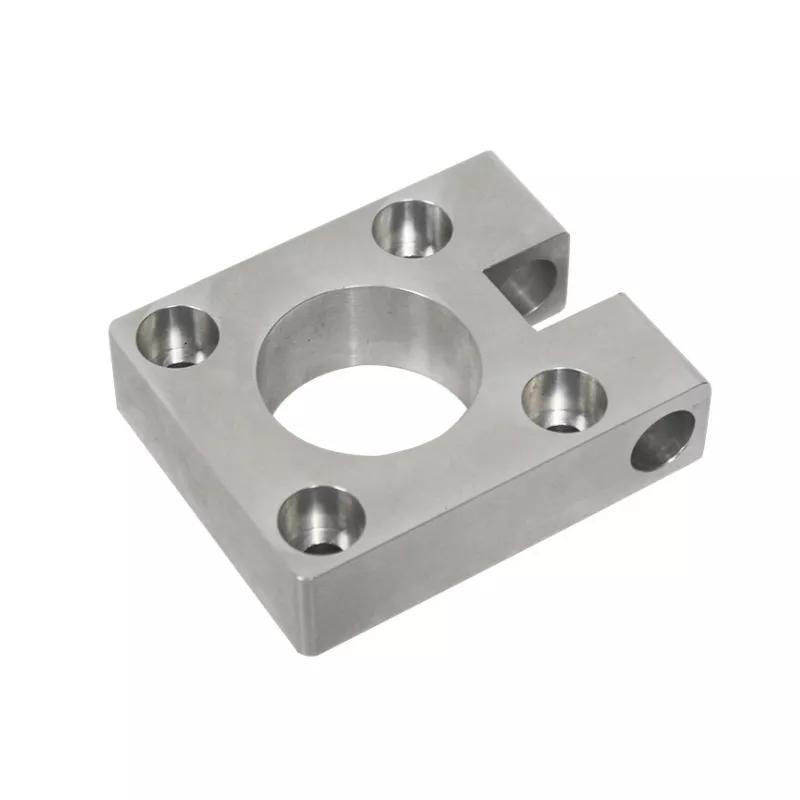hole: (274, 475, 373, 563), (132, 295, 226, 378), (520, 359, 606, 440), (366, 191, 458, 265)
